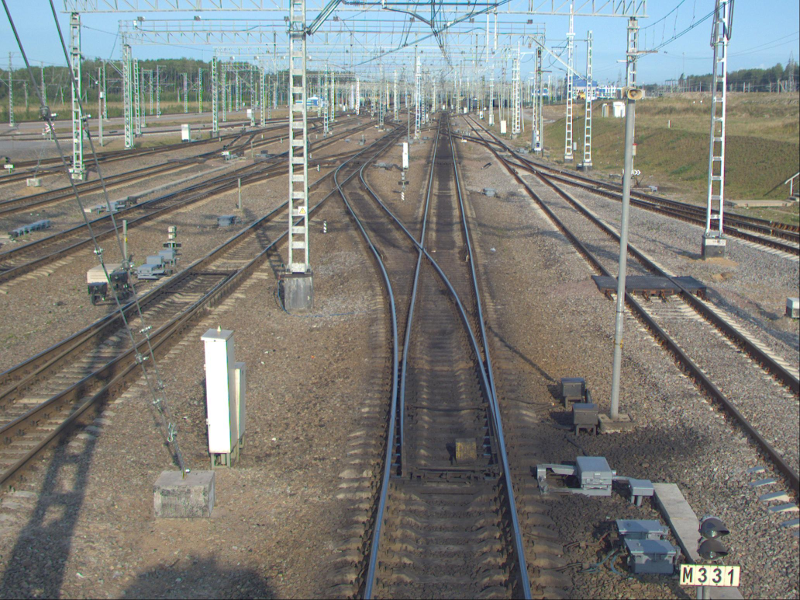left: (368, 378, 513, 480)
